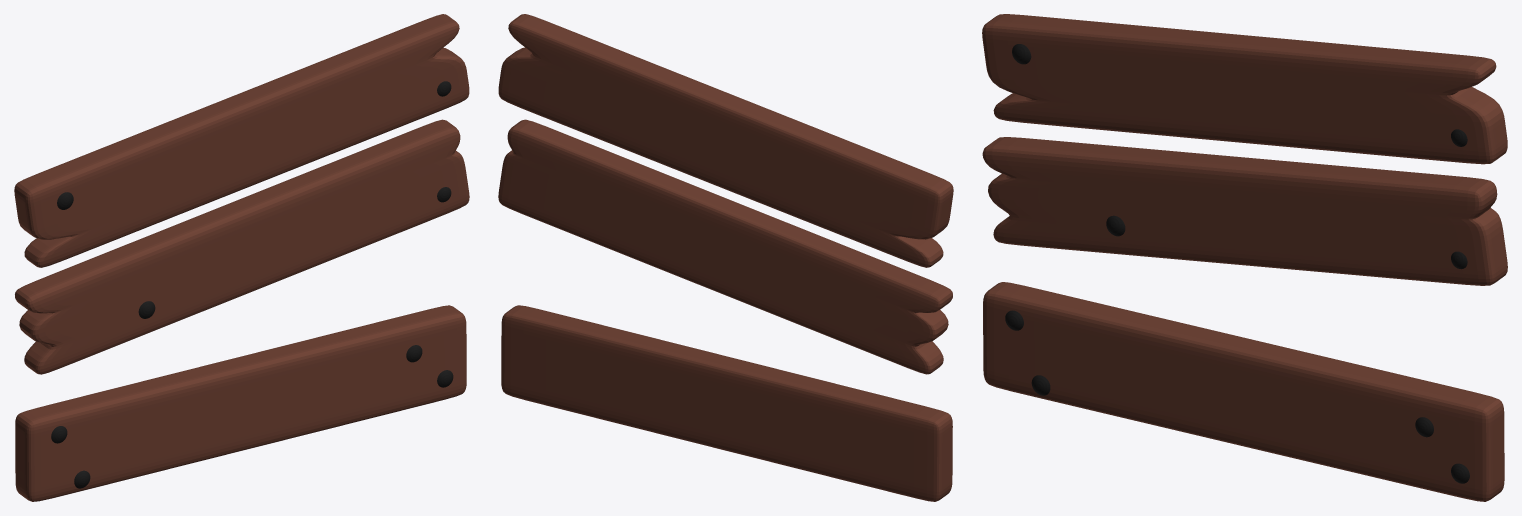
Rendered from tahta.fbx.
3 views of the same model, side by side, from view 1: azimuth 30°, elevation 25°; view 2: azimuth 150°, elevation 25°; view 3: azimuth 330°, elevation 25° (orthographic). The views are drawn at different scales.
Visible parts, largest first — view 1: Cube.002, Sphere.003; view 2: Cube.002; view 3: Cube.002, Sphere.003.
Boxes of the visible parts, left/top/right/bottom form: Cube.002: left=14, top=14, right=469, bottom=501; Sphere.003: left=51, top=81, right=453, bottom=488; Cube.002: left=498, top=14, right=953, bottom=501; Cube.002: left=982, top=14, right=1507, bottom=501; Sphere.003: left=1005, top=44, right=1469, bottom=483.
Bounding box in the file's own units: 275 × 224 × 19.51.
